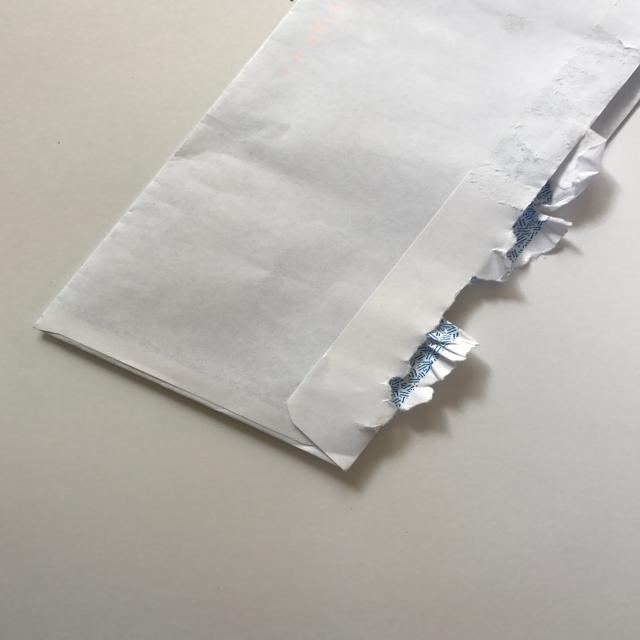paper: (22, 0, 640, 487)
